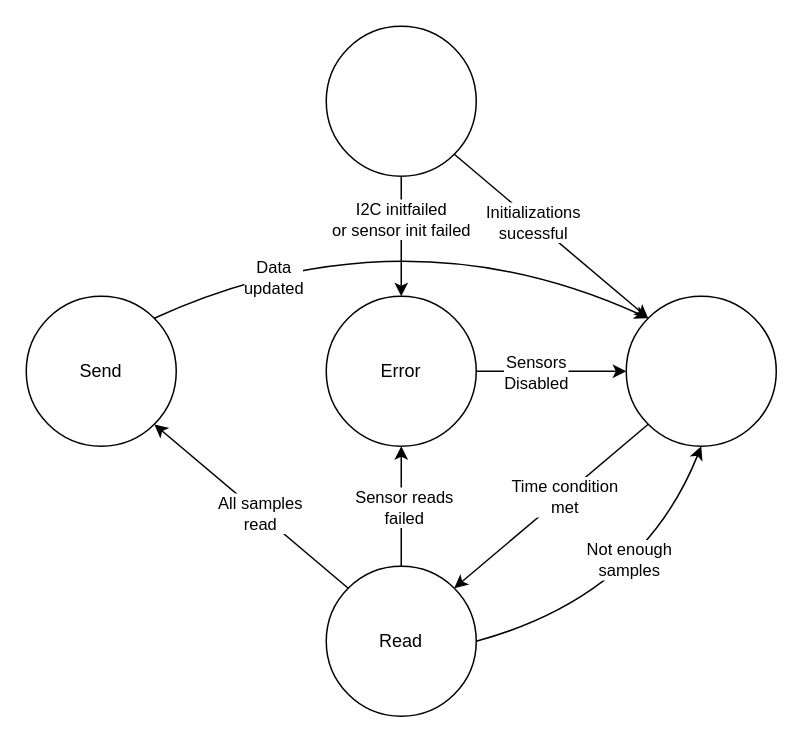
Image size: 803x743. Some labels were removed from this diagram. The shapes that lost their labels are listed below. From the top down, each one's centre as x and y in pixels, then its label:
At point (400, 100): "Initialize".
At point (700, 370): "Wait".
